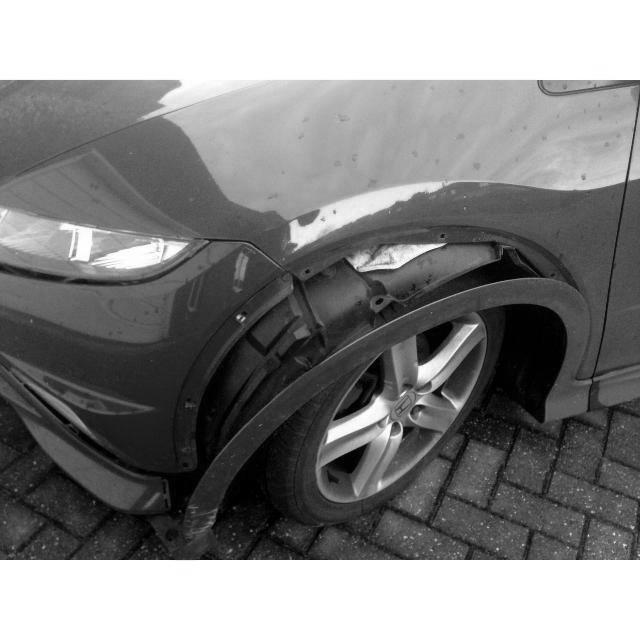fender-dent: (165, 230, 600, 527)
